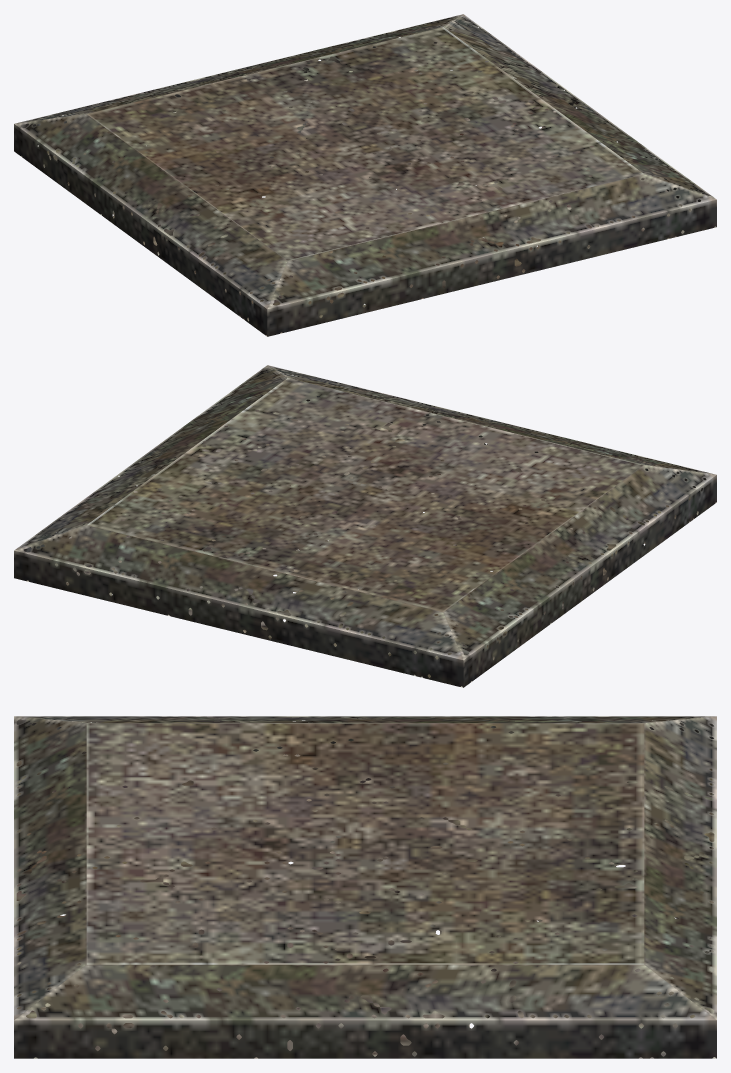
File: 12t_statue_base.fbx
The picture shows the model from 3 angles, top to bottom: view 1: azimuth 30°, elevation 25°; view 2: azimuth 150°, elevation 25°; view 3: azimuth 270°, elevation 25°; orthographic projection. The views are drawn at different scales.
Parts seen in each view (by area): view 1: 2st_table_001; view 2: 2st_table_001; view 3: 2st_table_001.
Part boxes in pixels (<box>): 2st_table_001: <box>14,14,716,336</box>; 2st_table_001: <box>14,365,716,687</box>; 2st_table_001: <box>14,716,716,1058</box>.
Bounding box in the file's own units: 4.93 × 0.4731 × 4.81.
